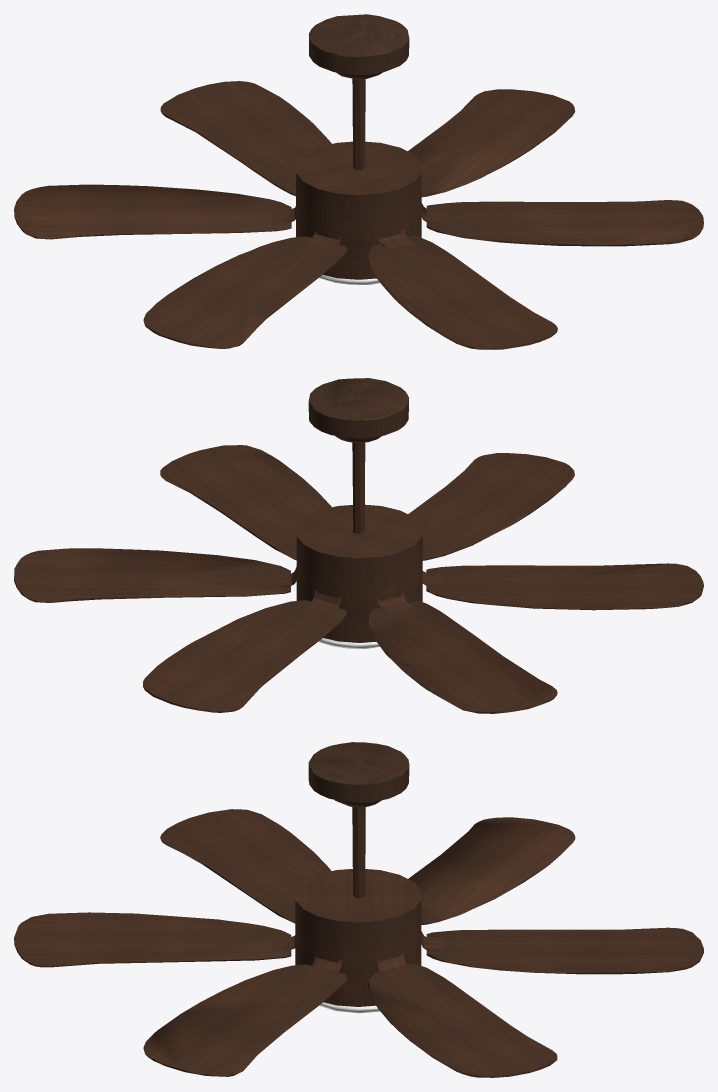
Rendered from cooling fan.FBX.
3 renders of one model, top to bottom at view 1: azimuth 30°, elevation 25°; view 2: azimuth 150°, elevation 25°; view 3: azimuth 270°, elevation 25°, orthographic.
Parts seen in each view (by area): view 1: cooling fan; view 2: cooling fan; view 3: cooling fan.
Boxes of the visible parts, left/top/right/bottom form: cooling fan: left=14, top=14, right=703, bottom=349; cooling fan: left=14, top=378, right=703, bottom=713; cooling fan: left=14, top=742, right=703, bottom=1077.
Bounding box in the file's own units: 168 × 69.48 × 184.
Materials: 2 (1 with a texture image).
